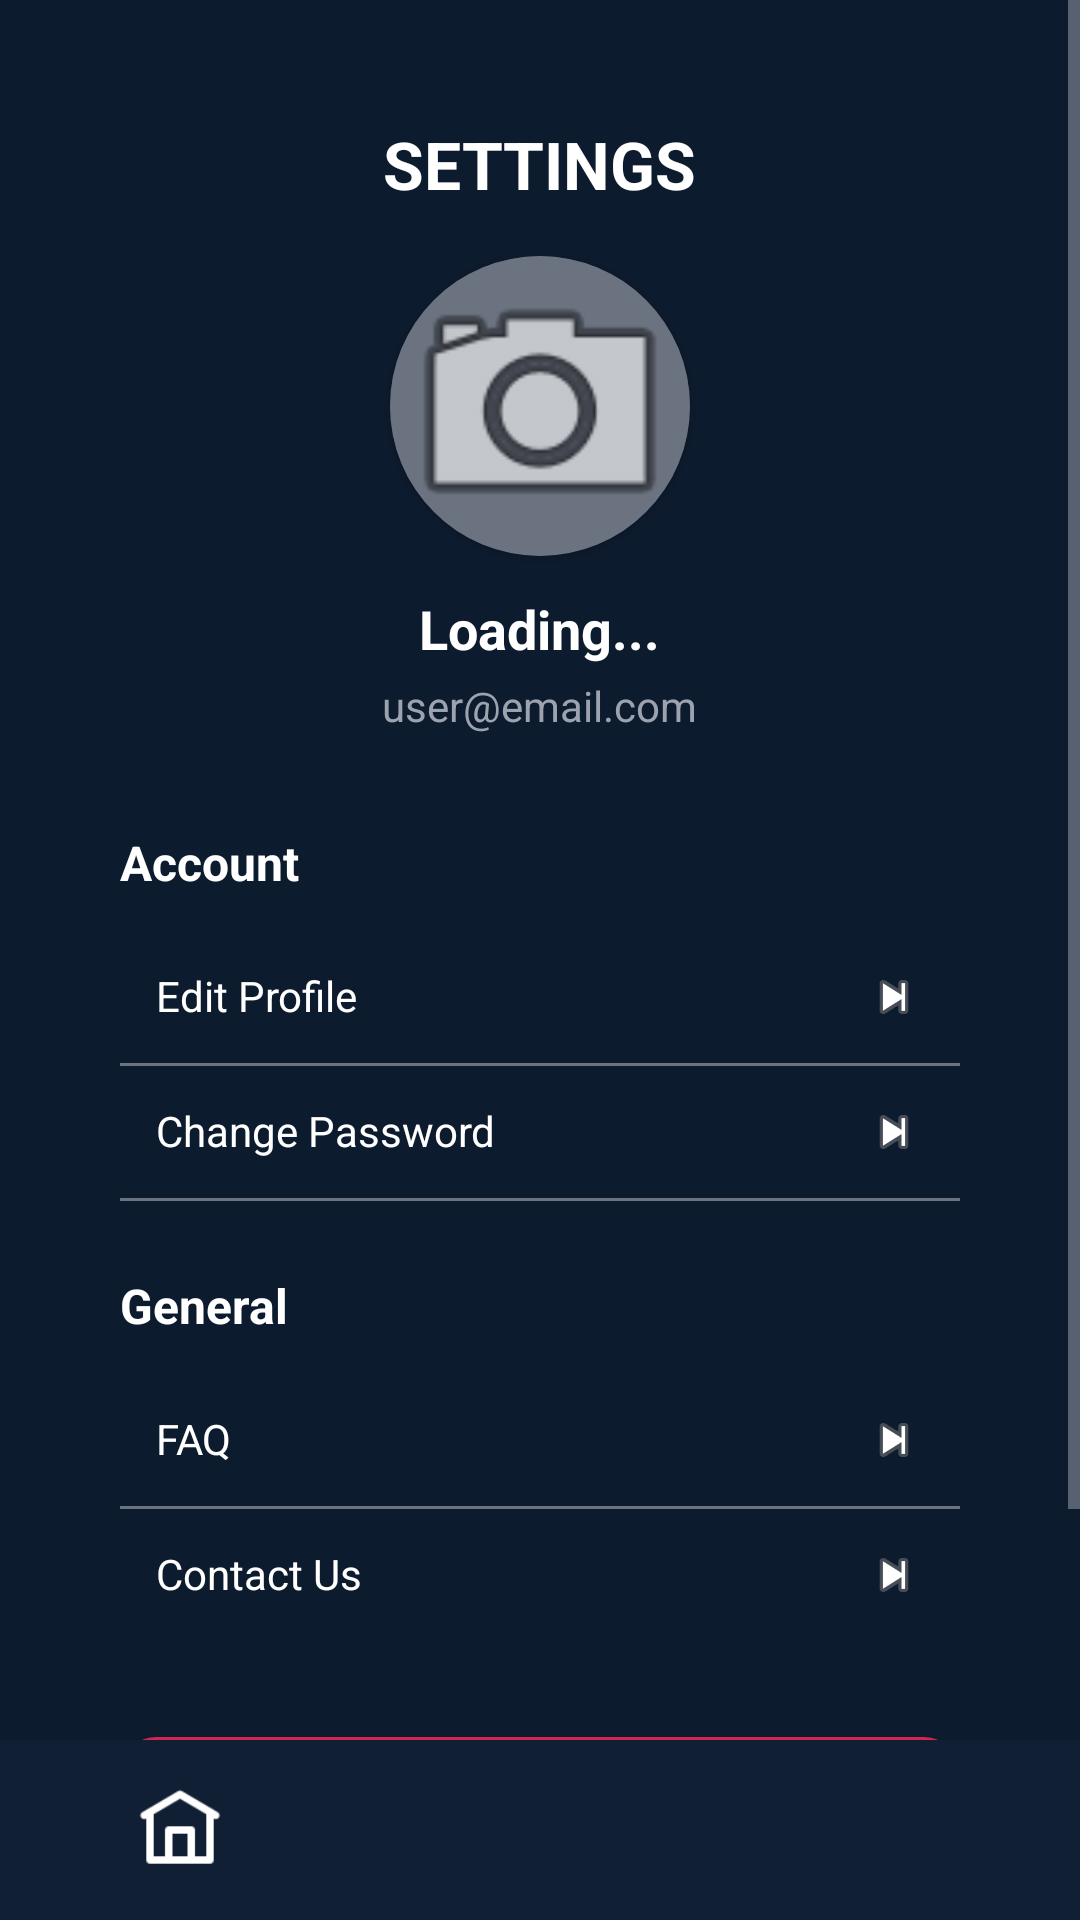

Where to tap for icons on this 1080*1920 app screen, as (x=x, y=y):
camera: (x=540, y=406)
home: (x=180, y=1827)
next: (x=894, y=997), (x=894, y=1132), (x=894, y=1440), (x=894, y=1575)
